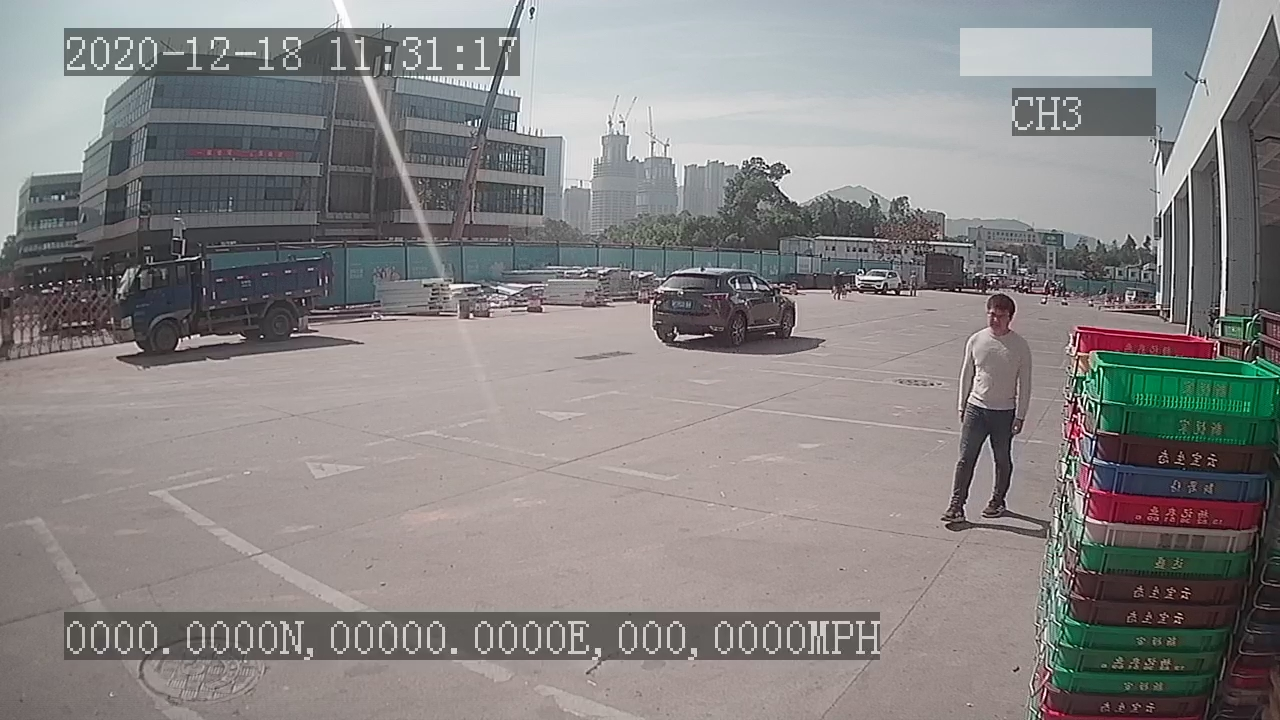person: (939, 288, 1034, 528)
